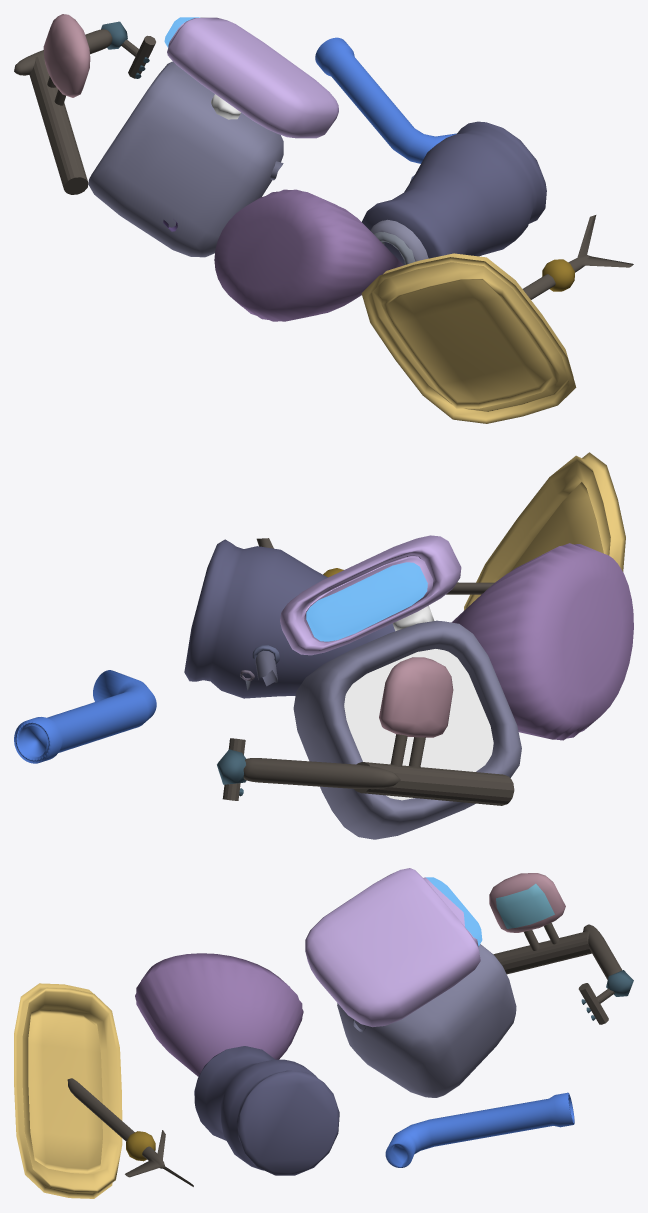
The model's file is broken_machine.glb.
3 views of the same model, one above another, from view 1: azimuth 30°, elevation 25°; view 2: azimuth 150°, elevation 25°; view 3: azimuth 270°, elevation 25° (orthographic). The views are drawn at different scales.
Visible parts, largest first — view 1: machine_broken; view 2: machine_broken; view 3: machine_broken.
Part boxes in pixels (x1,y1,x2,y2): machine_broken: [14, 14, 633, 423]; machine_broken: [14, 452, 633, 839]; machine_broken: [14, 868, 633, 1198].
Size of what is drawn, in the model's own units: 4.18 by 3.12 by 6.37.
